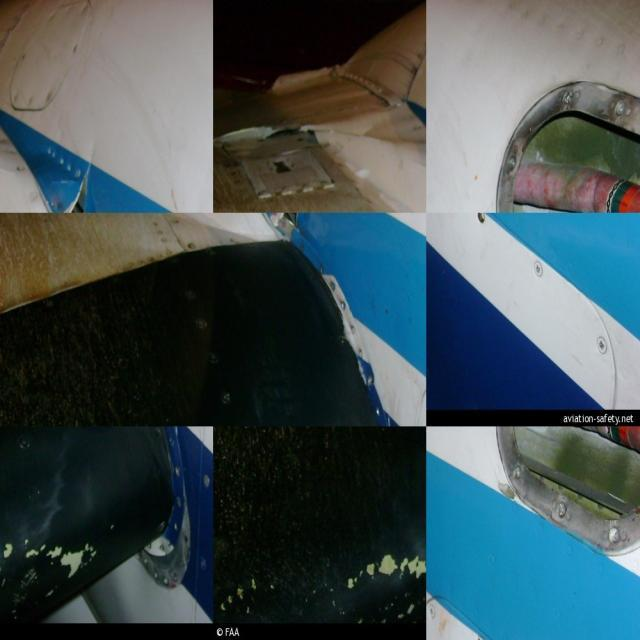crack: (64, 161, 103, 216)
